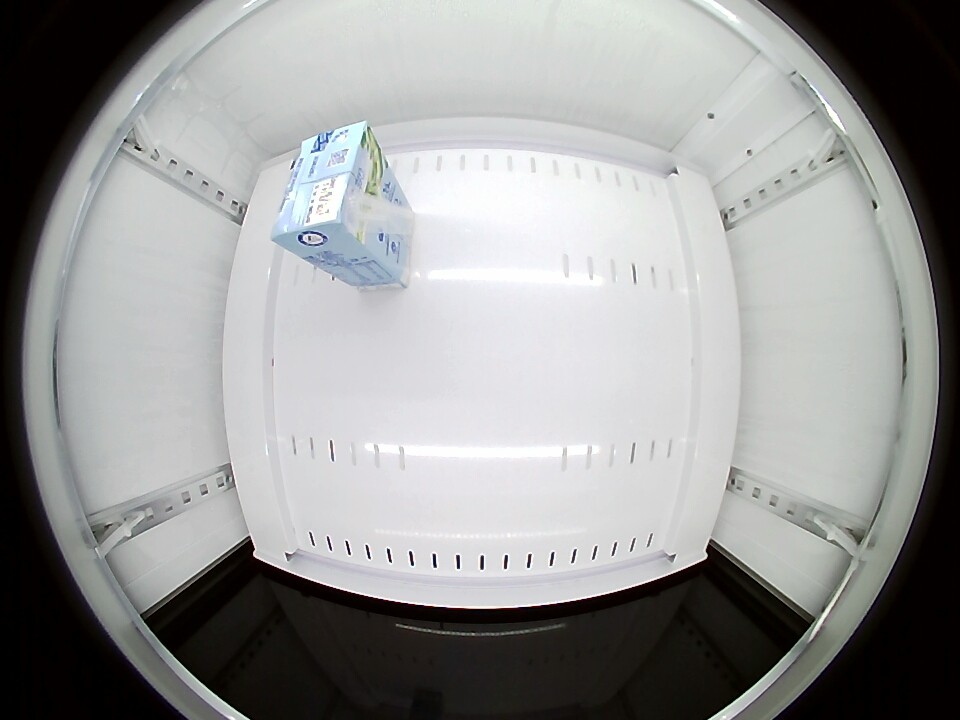weitanaiditang: (272, 120, 379, 259)
